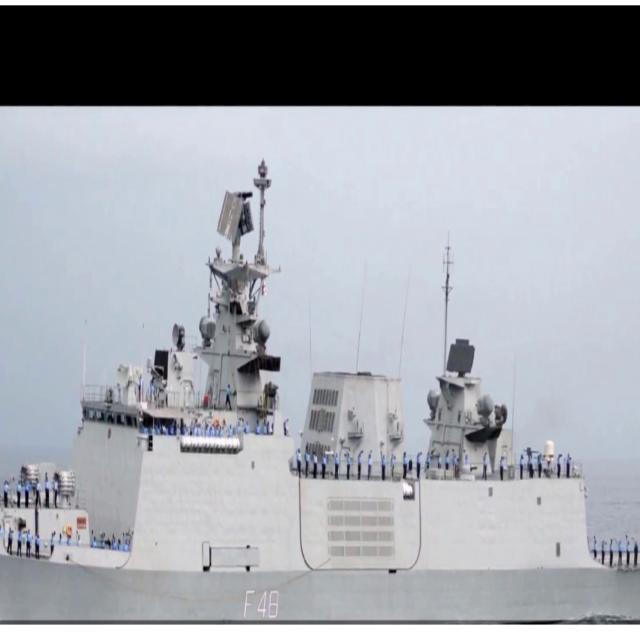OCR: (233, 586, 286, 623)
